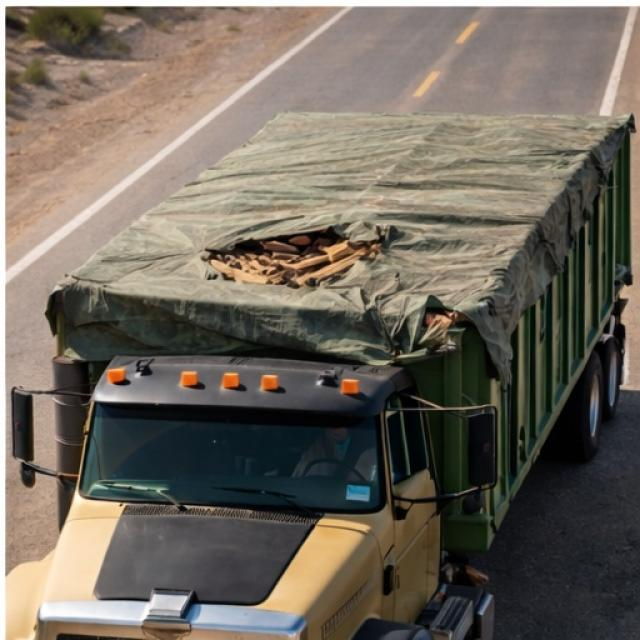trailer: (52, 113, 636, 310)
truck: (9, 94, 632, 634)
